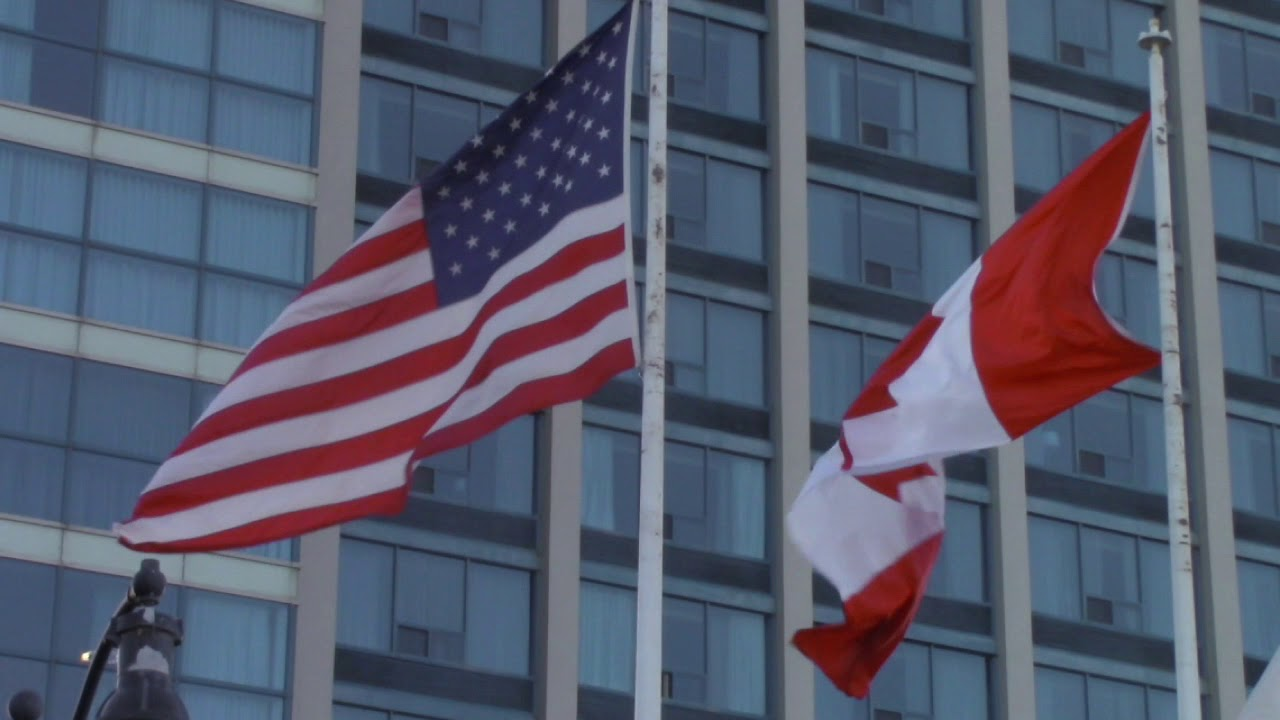America flag: (101, 4, 635, 556)
Canada flag: (782, 100, 1159, 693)
